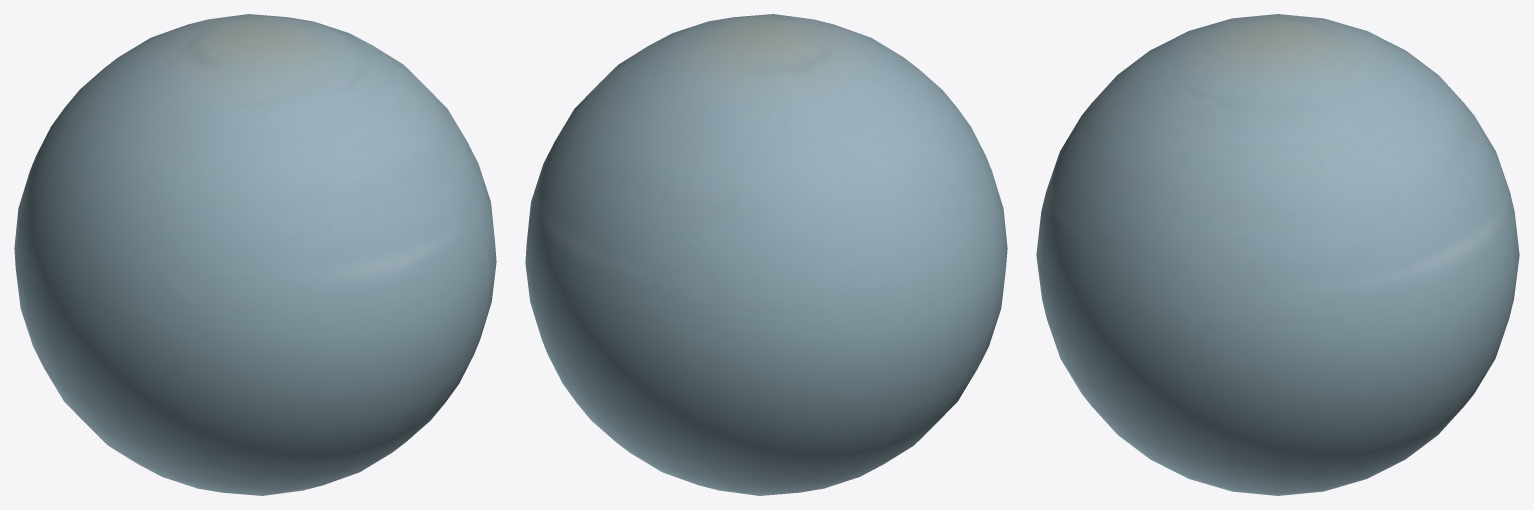
Rendered from uranus.fbx.
3 renders of one model, left to right at view 1: azimuth 30°, elevation 25°; view 2: azimuth 150°, elevation 25°; view 3: azimuth 270°, elevation 25°, orthographic.
Parts seen in each view (by area): view 1: uranus; view 2: uranus; view 3: uranus.
Boxes of the visible parts, x1=… form: uranus: x1=14, y1=14, x2=496, y2=495; uranus: x1=525, y1=14, x2=1007, y2=495; uranus: x1=1036, y1=14, x2=1519, y2=495.
Bounding box in the file's own units: 100 × 100 × 100.
1 material, 1 textured.
